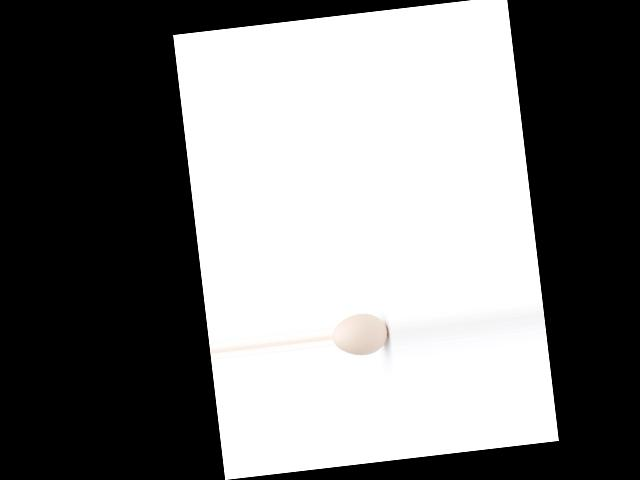egg: (330, 311, 390, 358)
